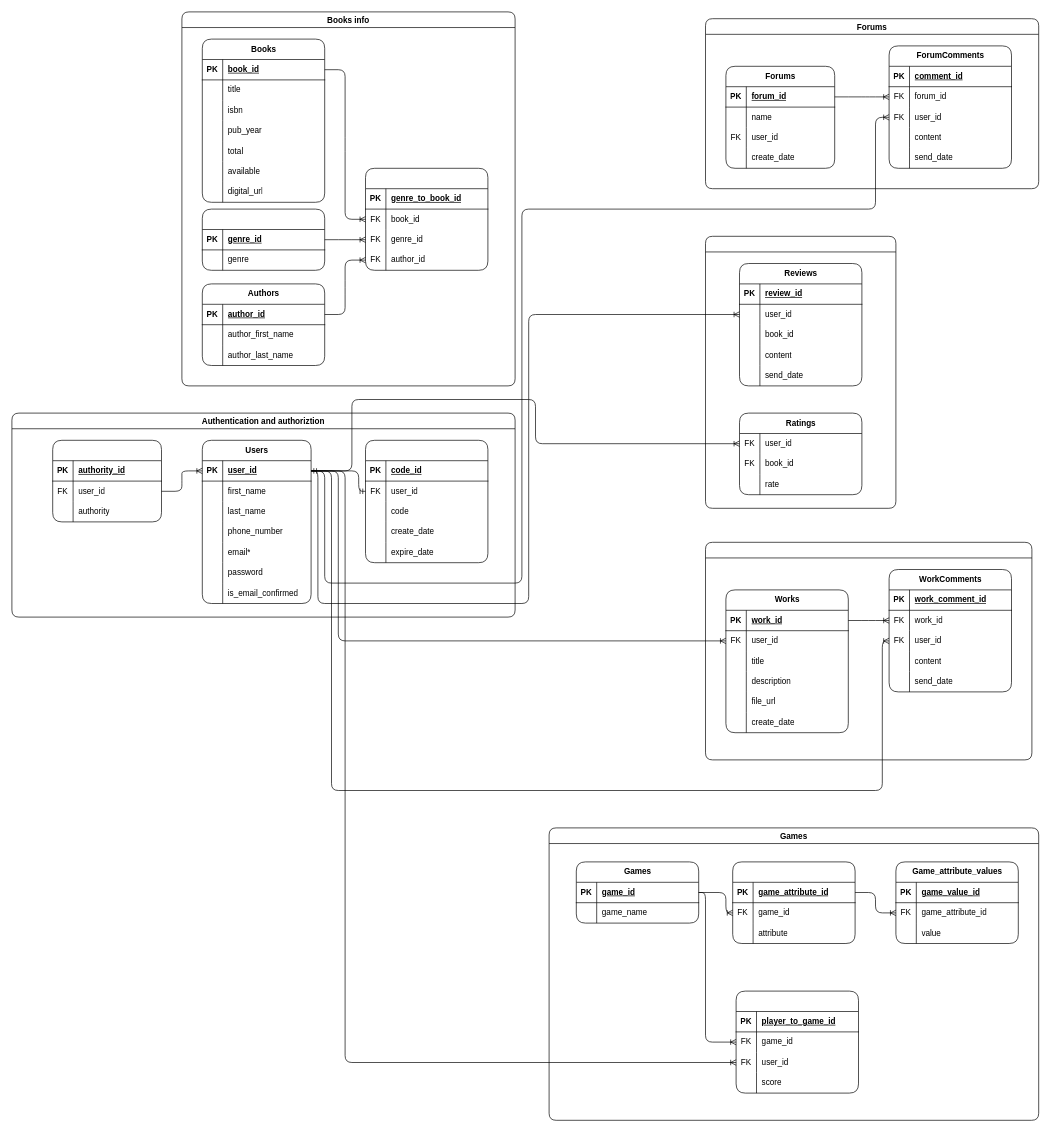
This 1051x1132 diagram has some shape labels left out. Here are the shapes that lost their labels. From the top down, the box of each, then its label:
(202, 208, 325, 270): Genres
(365, 168, 488, 270): GenresAndAuthorsToBooks
(705, 236, 896, 508): Ratings and reviews
(52, 440, 162, 522): Authorities
(365, 440, 488, 563): SecretCodes
(705, 542, 1032, 760): Users creations
(732, 861, 855, 944): Game_attributes
(735, 990, 859, 1093): PlayerToGames
